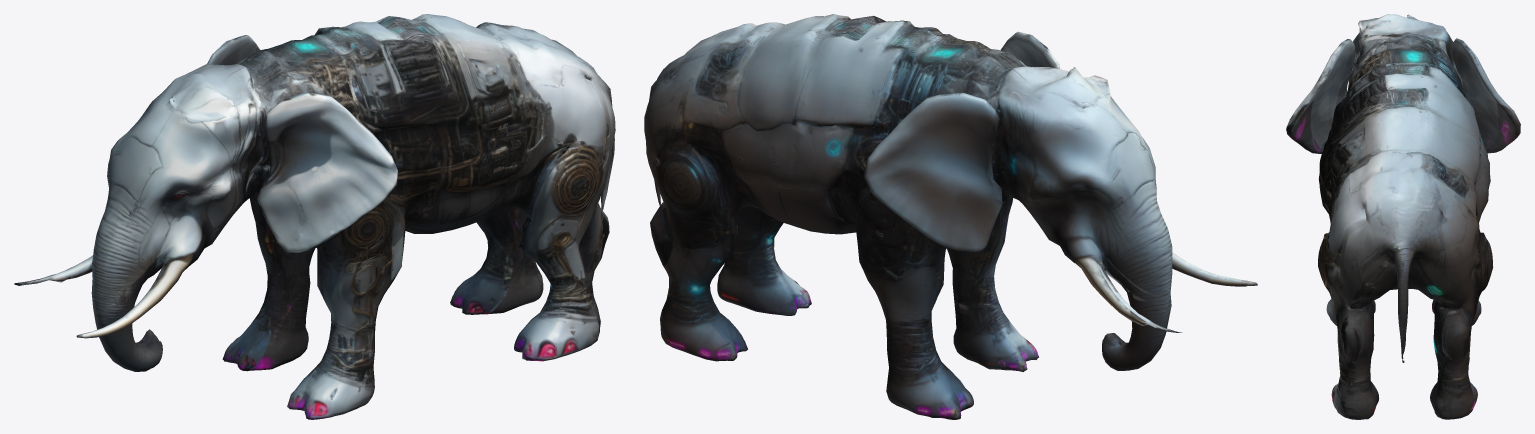
Rendered from Elephant.glb.
The picture shows the model from 3 angles, left to right: view 1: azimuth 30°, elevation 25°; view 2: azimuth 150°, elevation 25°; view 3: azimuth 270°, elevation 25°; orthographic projection. The views are drawn at different scales.
Visible parts, largest first — view 1: Mesh1_Mesh1.050; view 2: Mesh1_Mesh1.050; view 3: Mesh1_Mesh1.050.
Boxes of the visible parts, x1,y1,x2,y2 form: Mesh1_Mesh1.050: [14, 14, 615, 419]; Mesh1_Mesh1.050: [644, 14, 1257, 419]; Mesh1_Mesh1.050: [1286, 14, 1520, 419].
Bounding box in the file's own units: 1.99 × 1.11 × 0.8725.
Materials: 1 (1 with a texture image).
